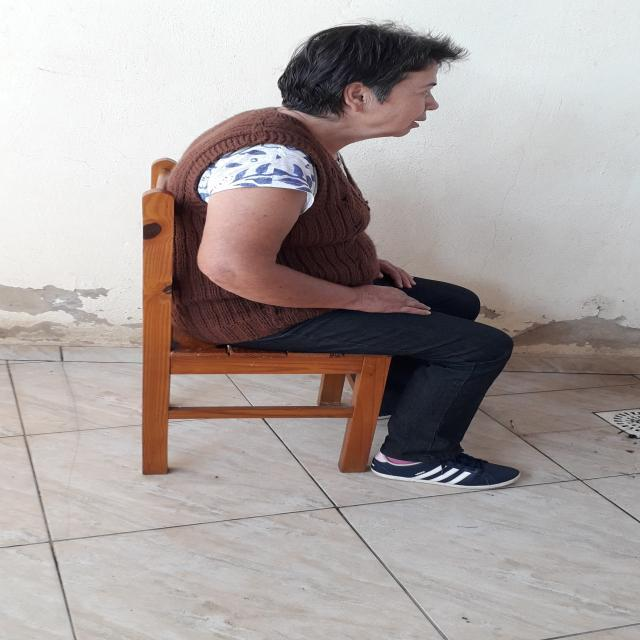bad-pose: (0, 0, 640, 640)
